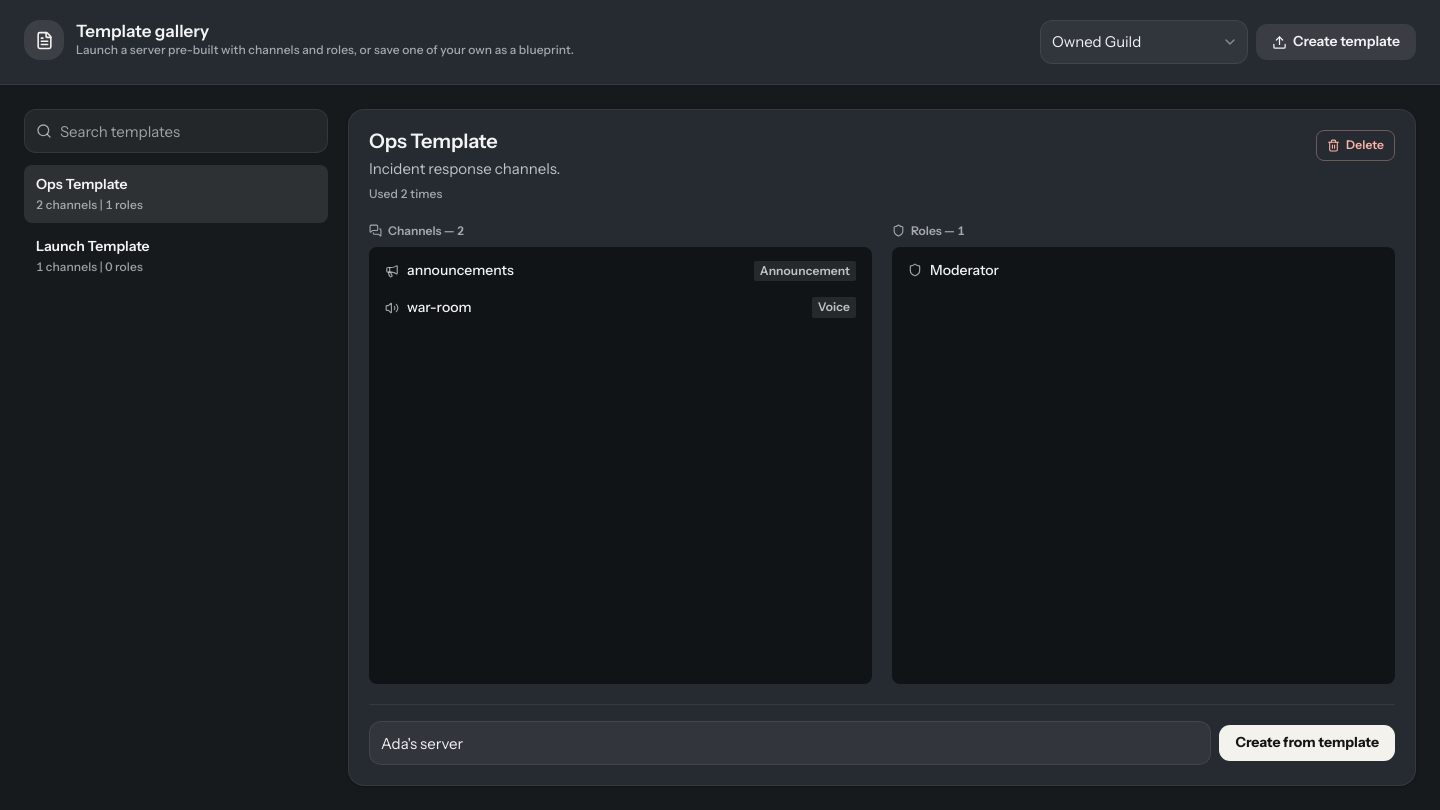
TemplateGalleryPage › keeps selection valid after deleting a selected template
The image size is (1440, 810).
Expected: the button with aria-label "View template Ops Template" is shown, [24,165,328,223]
What coordinates should you click on to do the following:
click the button with aria-label "Delete template Ops Template"
I would click on:
 (1356, 145)
Its box is [1316,130,1395,161].
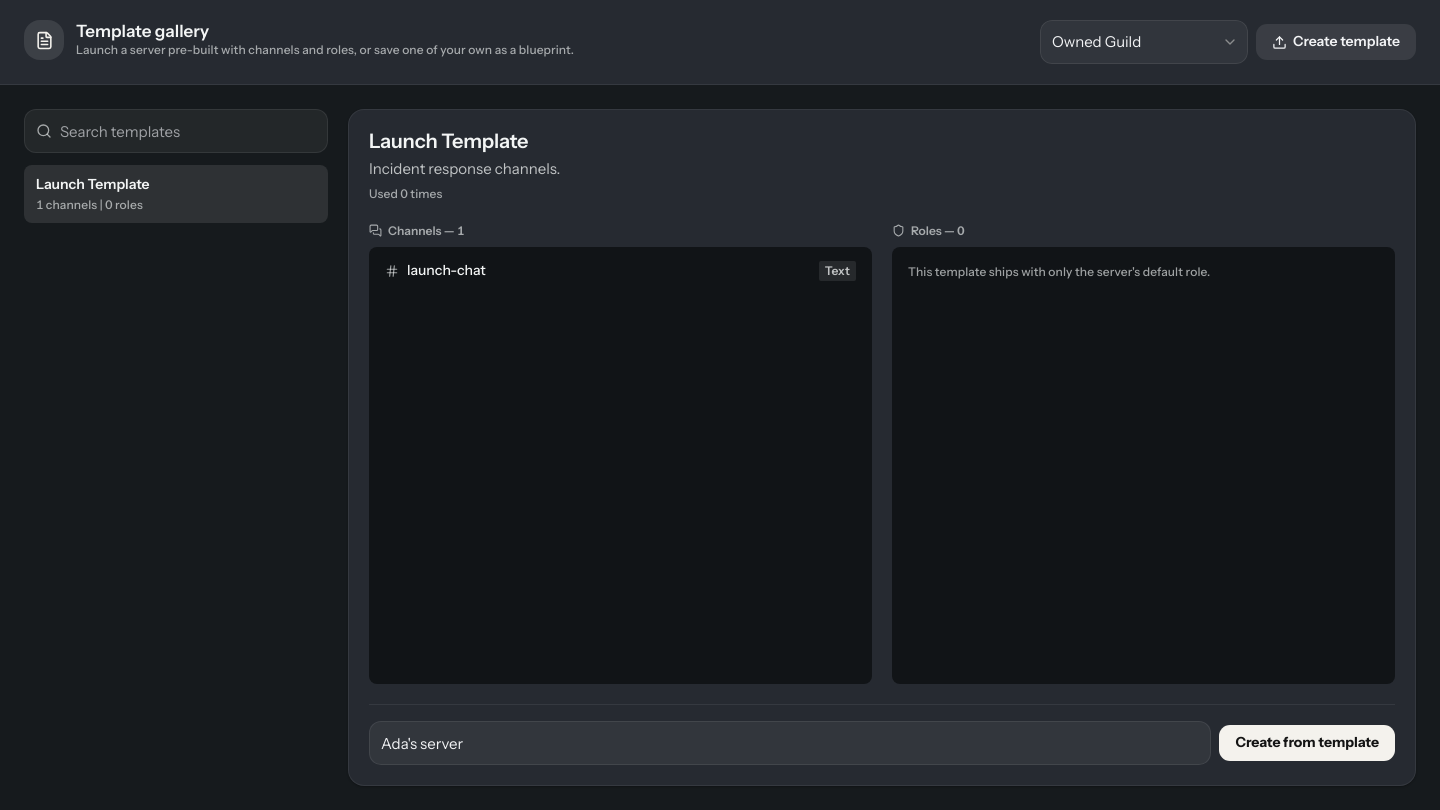
Now the heading "Launch Template" is shown, box [369,129,528,153]
Now the text "launch-chat" is shown, box [407,261,486,279]
